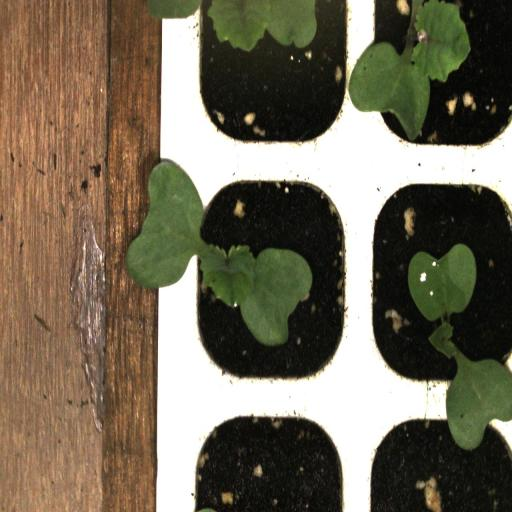seedling: (179, 156, 358, 396), (358, 161, 512, 401)
